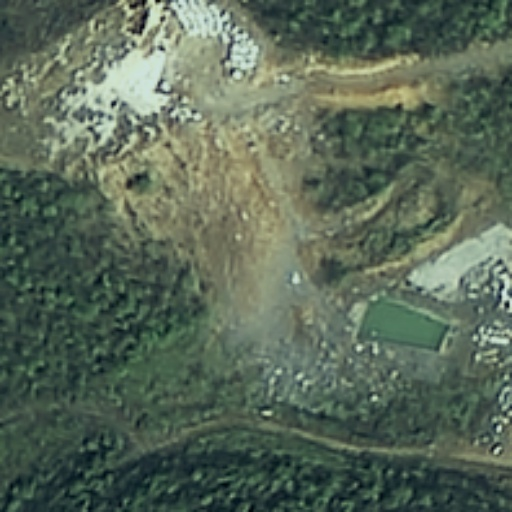landslide: (115, 121, 304, 274)
